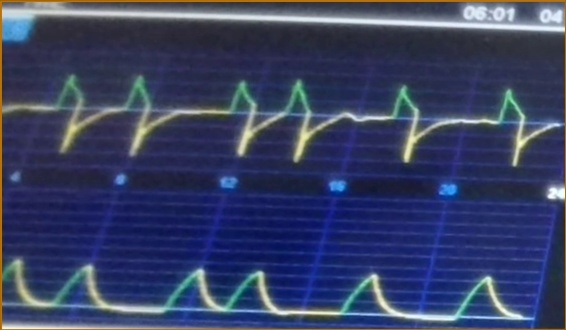Ineffective_effort Flow: (4, 61, 558, 168)
Ineffective_effort Volume: (3, 235, 524, 326)
